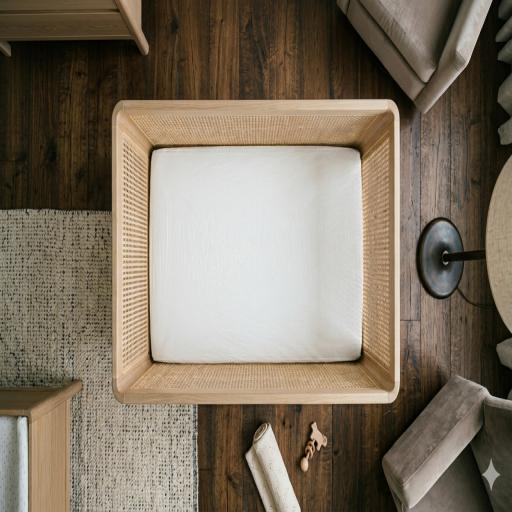crib: (113, 100, 399, 403)
